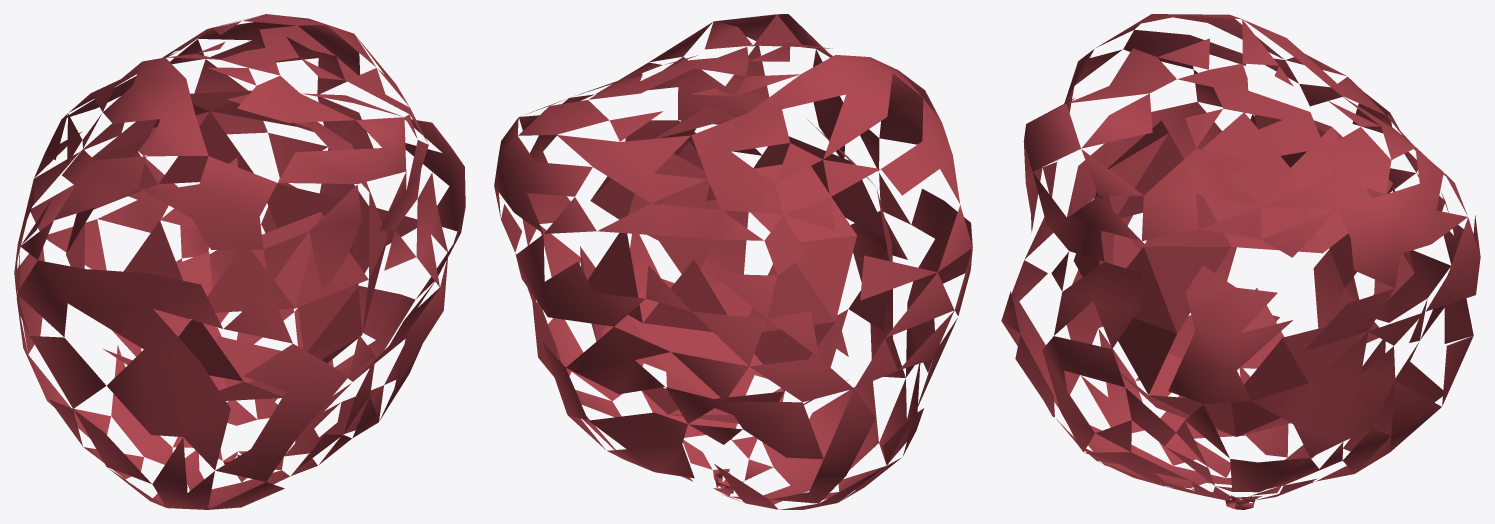
Rendered from BalloonPOP_RED.fbx.
3 views of the same model, side by side, from view 1: azimuth 30°, elevation 25°; view 2: azimuth 150°, elevation 25°; view 3: azimuth 270°, elevation 25° (orthographic). The views are drawn at different scales.
Parts seen in each view (by area): view 1: Balloon; view 2: Balloon; view 3: Balloon.
Boxes of the visible parts, x1,y1,x2,y2 form: Balloon: [14, 14, 465, 509]; Balloon: [494, 14, 972, 509]; Balloon: [1001, 14, 1480, 509].
Size of the model in its own units: 116 by 110 by 105.
